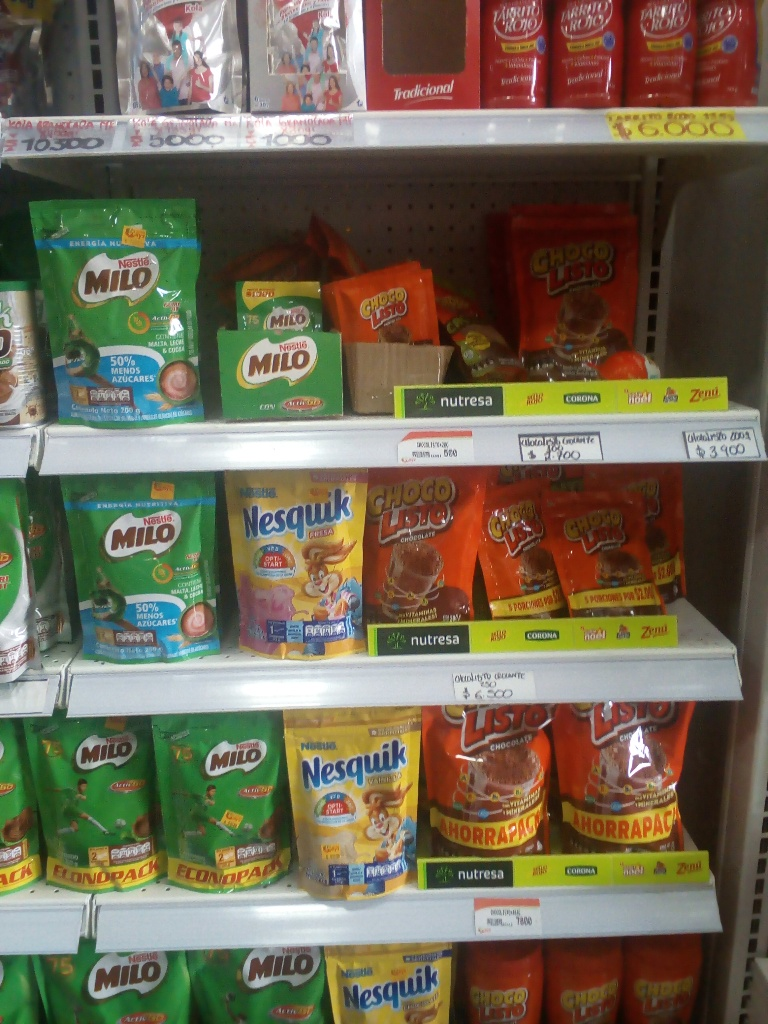COL0170103DYP20000: (361, 473, 485, 625)
COL0170103DYP44000: (421, 706, 559, 859)
COL0170103SOB02000: (348, 272, 456, 346)
COL0170203DYP25000: (152, 715, 296, 887)
COL0170205DYP20000: (33, 205, 211, 433)
COL0170305DYP20000: (222, 468, 364, 653)
COL0170306DYP20000: (279, 708, 421, 901)
